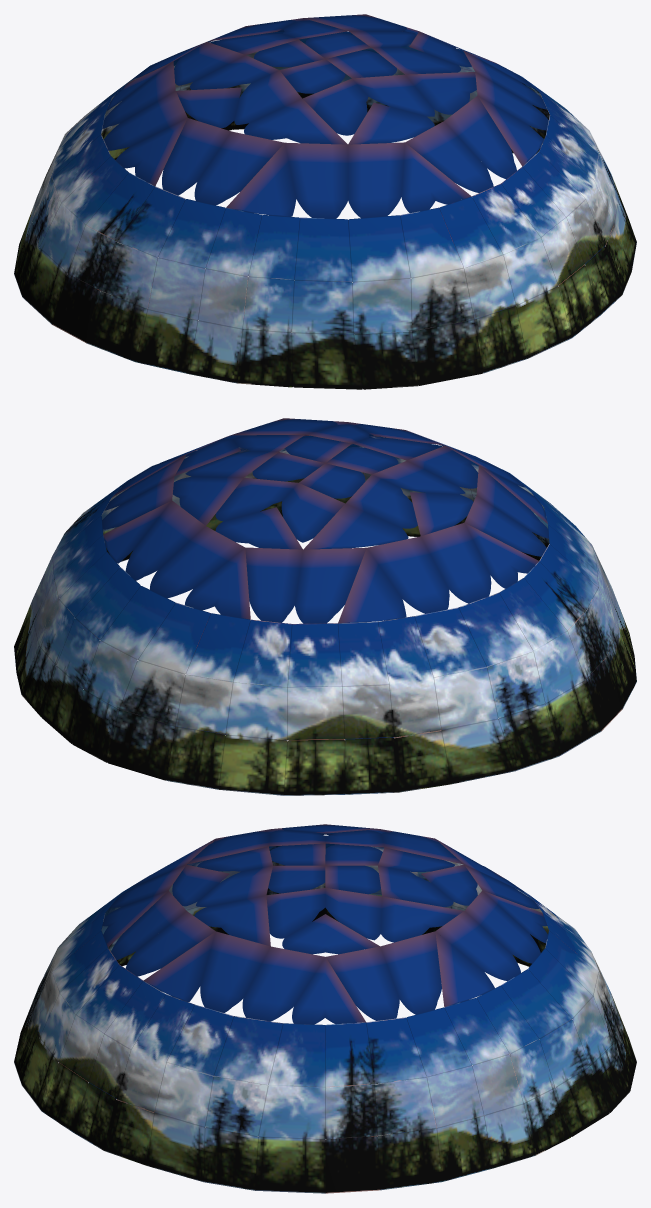
The picture shows the model from 3 angles, top to bottom: view 1: azimuth 30°, elevation 25°; view 2: azimuth 150°, elevation 25°; view 3: azimuth 270°, elevation 25°; orthographic projection. The views are drawn at different scales.
Parts seen in each view (by area): view 1: T1L2M001_32; view 2: T1L2M001_32; view 3: T1L2M001_32.
Boxes of the visible parts, x1,y1,x2,y2 form: T1L2M001_32: (14,14,636,389); T1L2M001_32: (14,418,636,795); T1L2M001_32: (14,824,636,1193).
Bounding box in the file's own units: 4.09 × 1.42 × 4.09.
